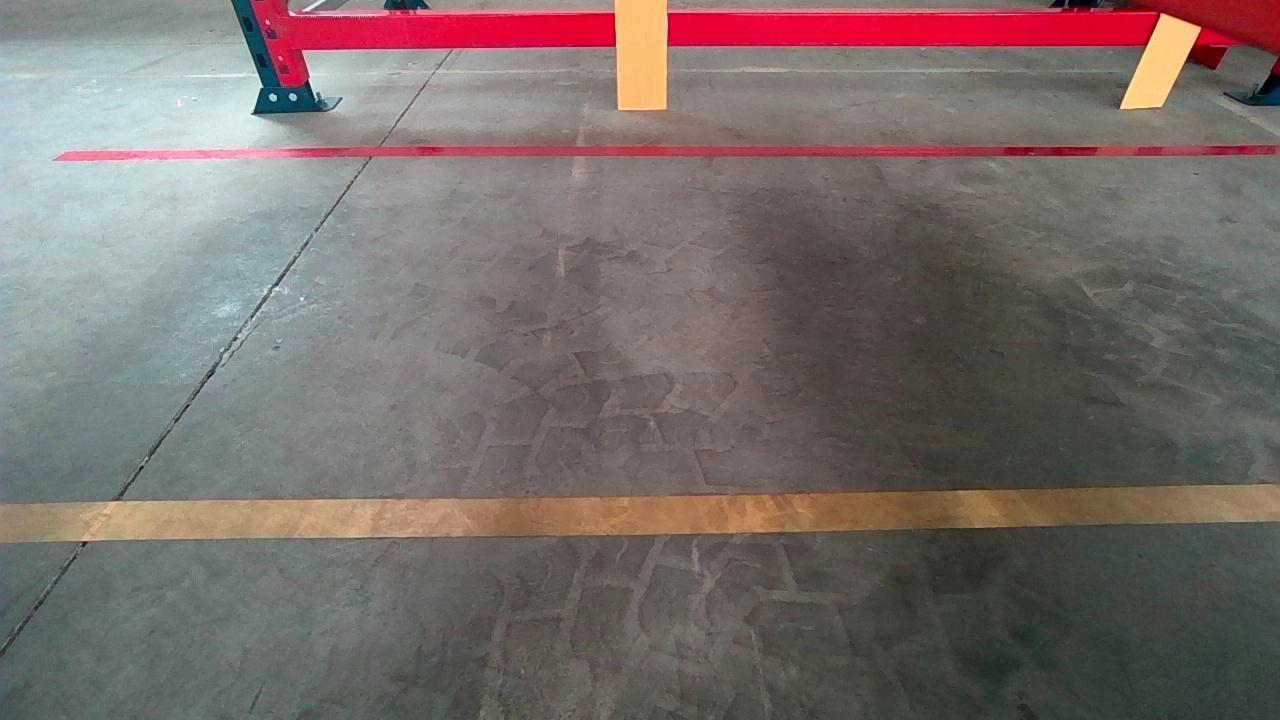h_rack: (291, 7, 1145, 57)
orange_strip: (1120, 13, 1203, 105), (616, 0, 669, 106)
red_line: (47, 138, 1273, 165)
yellow_line: (14, 481, 1275, 548)
